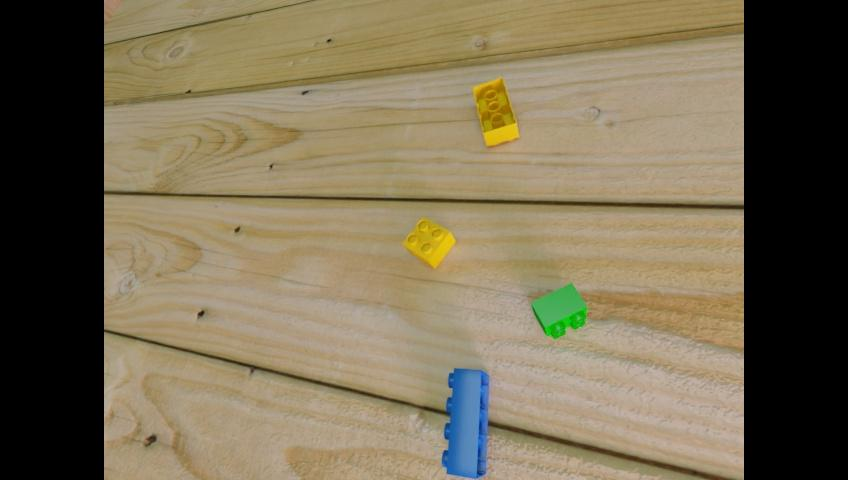2x2_green: (531, 282, 586, 338)
2x2_yellow: (402, 216, 454, 268)
4x2_blue: (442, 366, 489, 477)
4x2_yellow: (472, 76, 518, 145)
